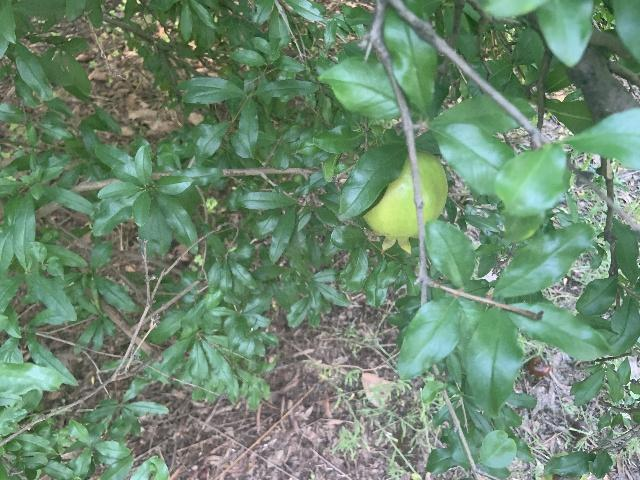mid-growth: (363, 147, 448, 257)
